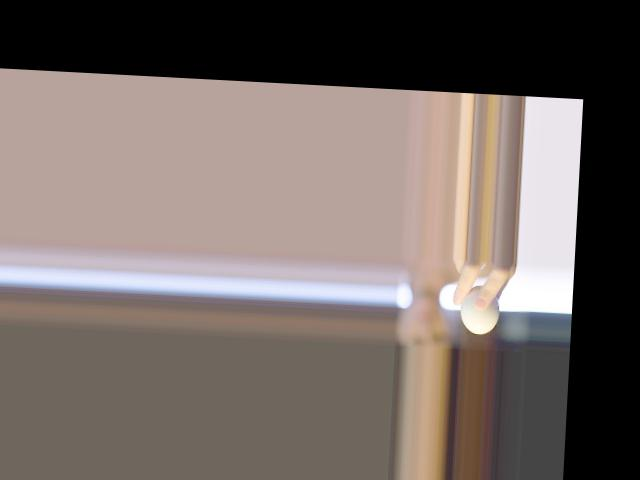egg: (458, 283, 499, 334)
